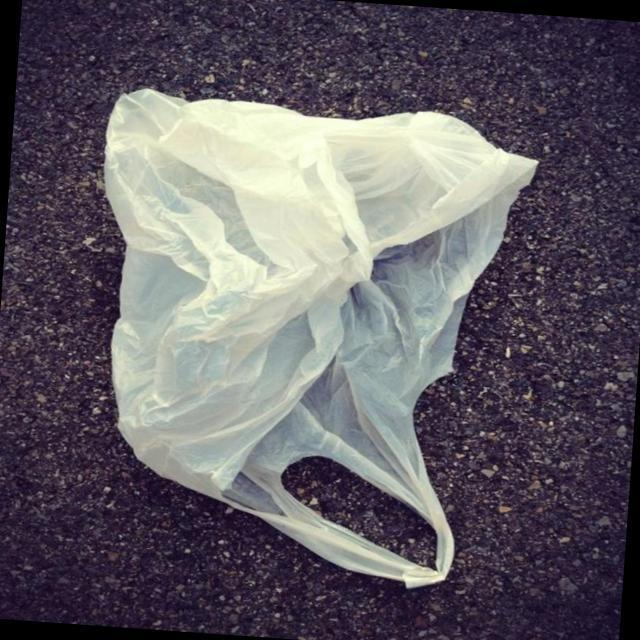KantongPlastik: (101, 86, 539, 589)
